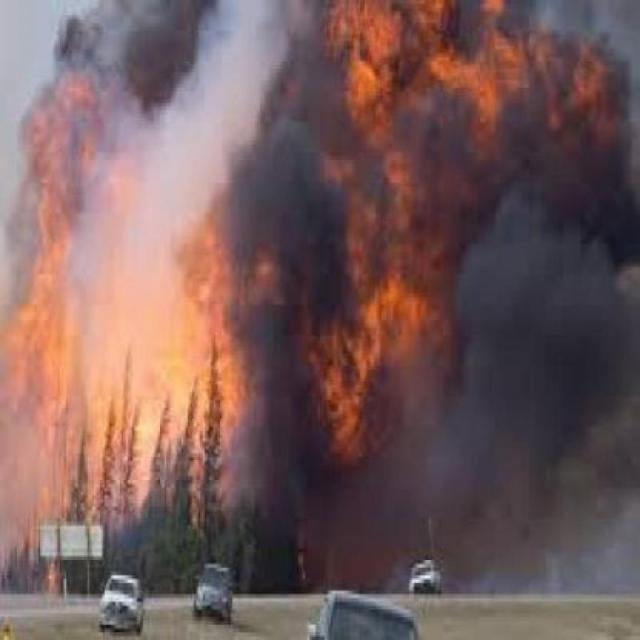Fire: (324, 302, 462, 468), (8, 255, 95, 508)
Smoke: (252, 85, 323, 490)
